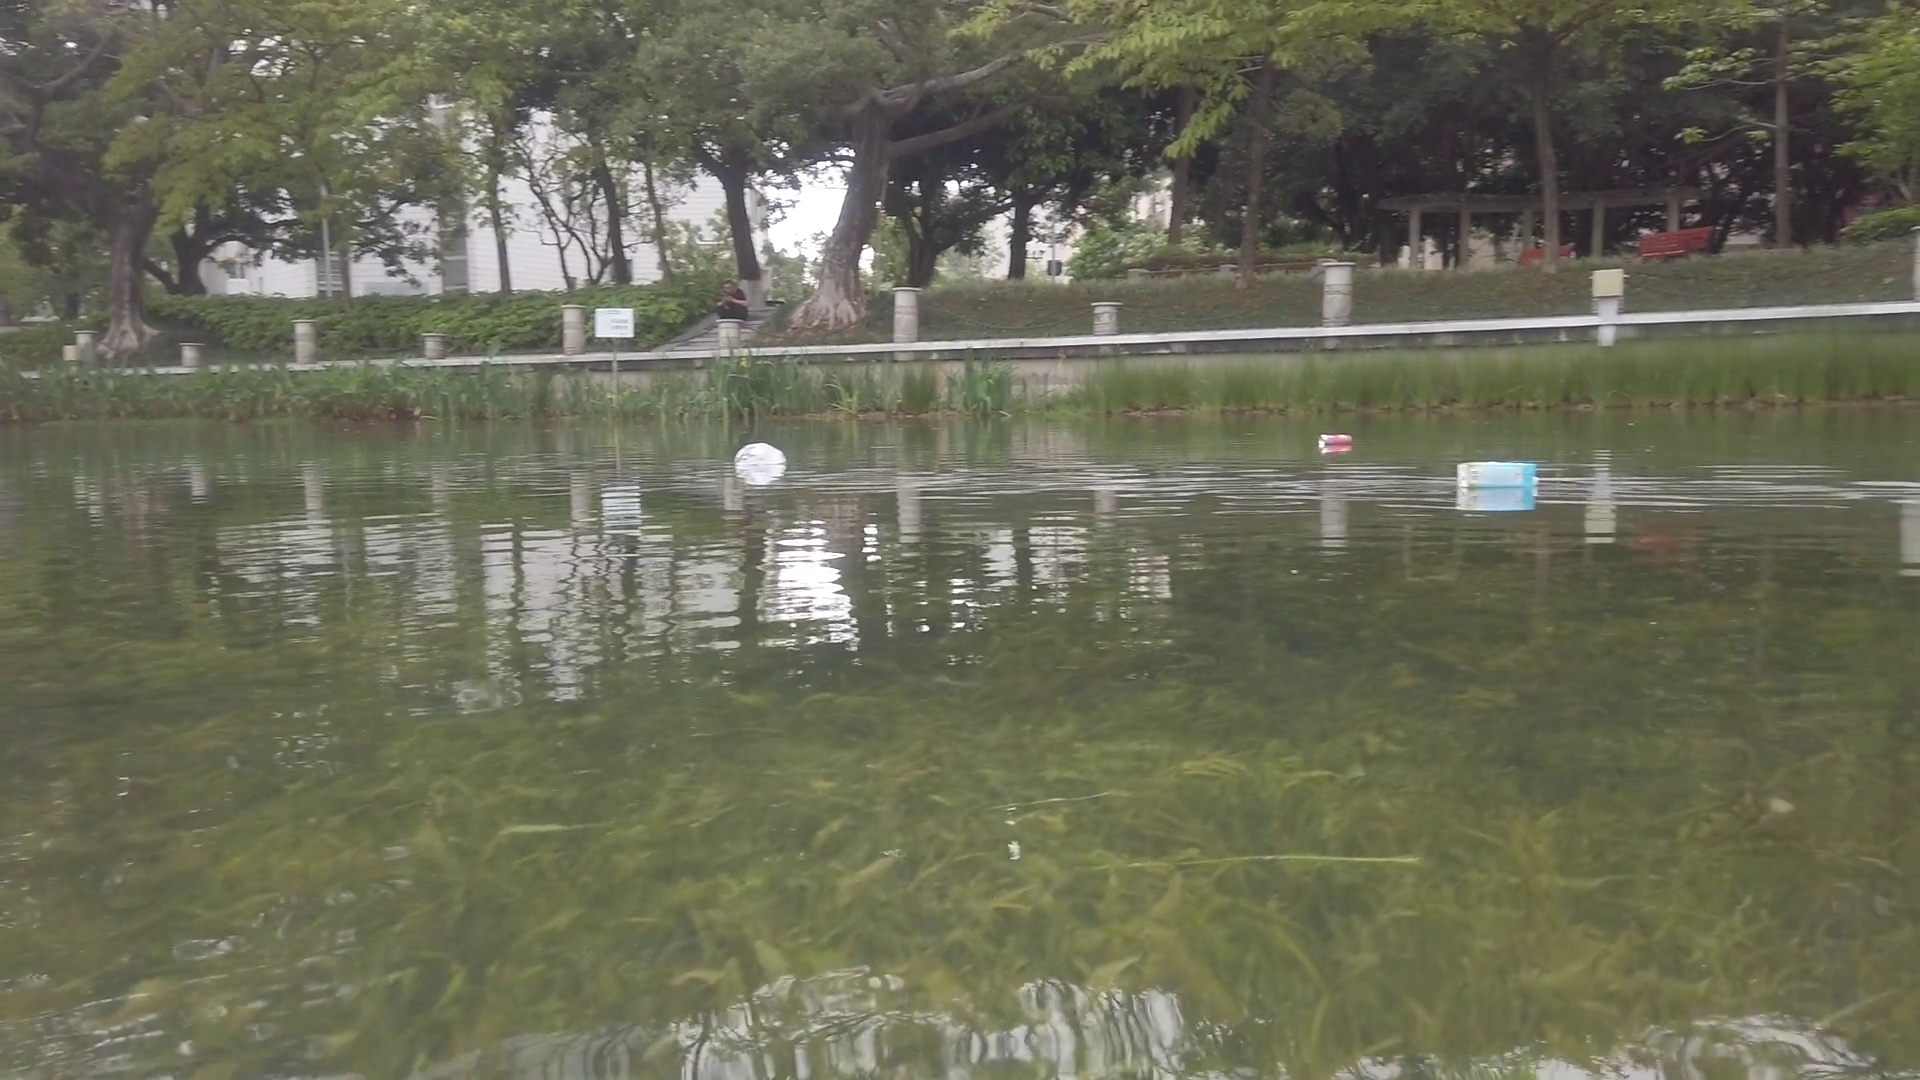bottle: (1319, 433, 1352, 446)
carton: (1458, 462, 1540, 488)
plastic: (735, 440, 789, 467)
